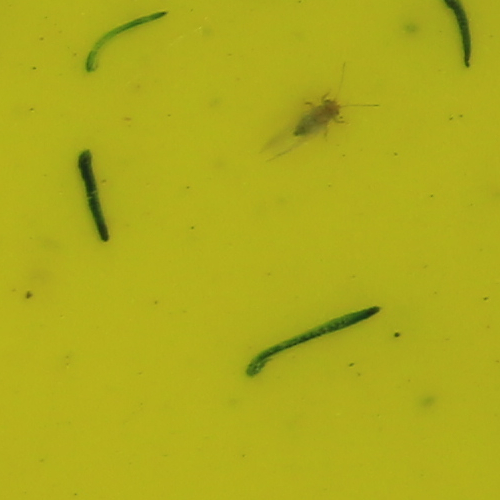Glycaspis: (289, 90, 344, 143)
